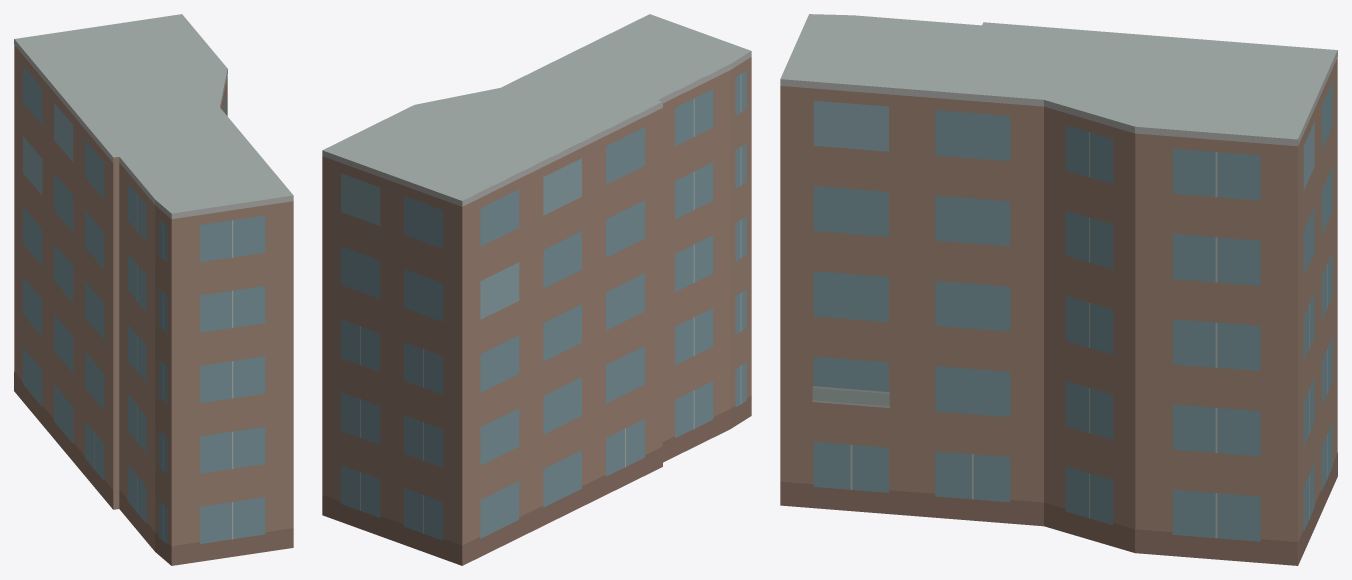
The model's file is survey-upis-32759142.glb.
3 renders of one model, left to right at view 1: azimuth 30°, elevation 25°; view 2: azimuth 150°, elevation 25°; view 3: azimuth 270°, elevation 25°, orthographic. The views are drawn at different scales.
Parts seen in each view (by area): view 1: survey-upis-32759142.tmp; view 2: survey-upis-32759142.tmp; view 3: survey-upis-32759142.tmp.
Boxes of the visible parts, left/top/right/bottom form: survey-upis-32759142.tmp: left=14, top=14, right=293, bottom=565; survey-upis-32759142.tmp: left=322, top=14, right=751, bottom=565; survey-upis-32759142.tmp: left=780, top=14, right=1337, bottom=565.
Bounding box in the file's own units: 9.72 × 15.38 × 18.24.
